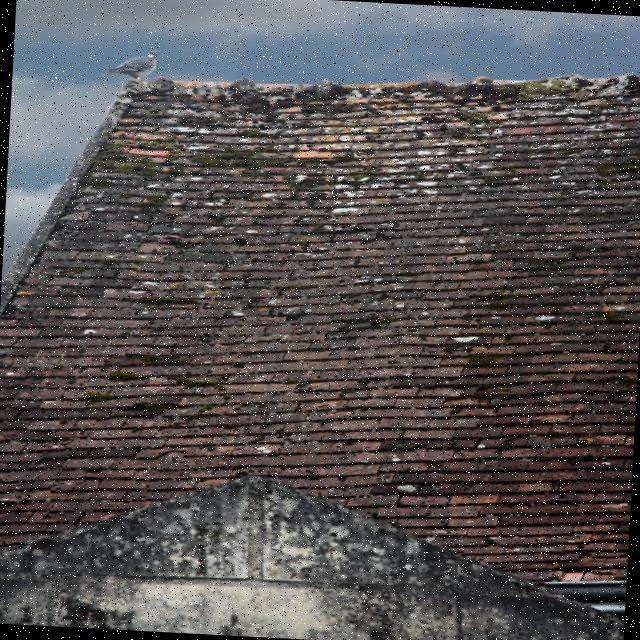bird: (100, 47, 166, 85)
